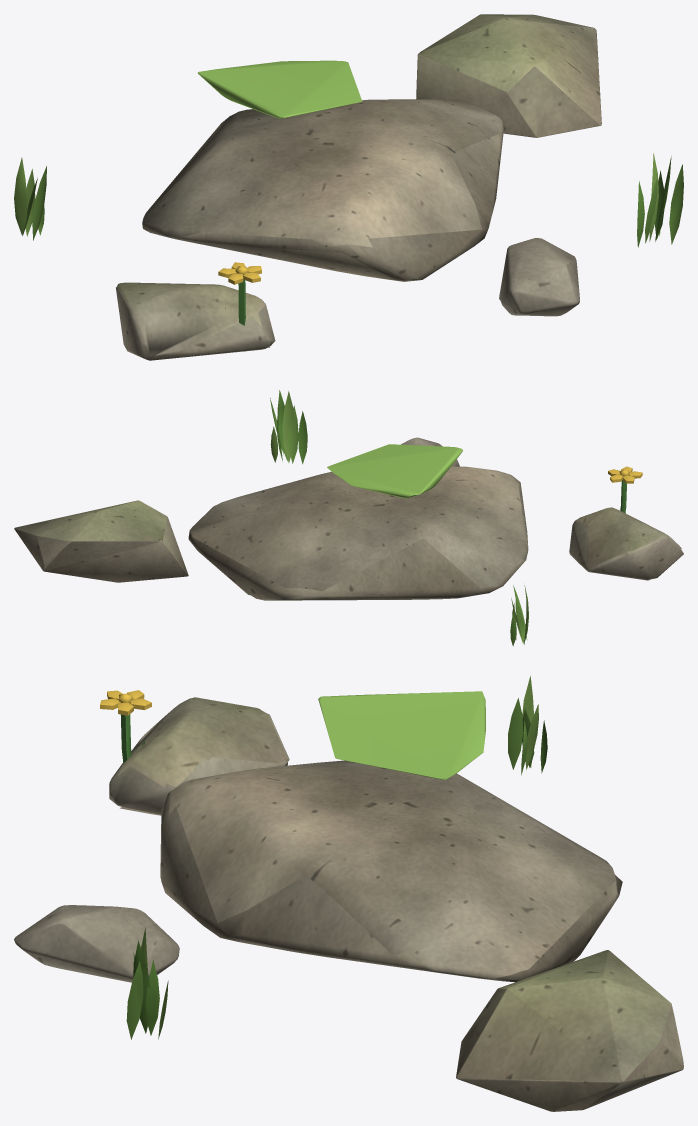
File: rock_flat.gltf
3 views of the same model, one above another, from view 1: azimuth 30°, elevation 25°; view 2: azimuth 150°, elevation 25°; view 3: azimuth 270°, elevation 25° (orthographic). The views are drawn at different scales.
Parts seen in each view (by area): view 1: Stones, Rock; view 2: Stones, Rock; view 3: Stones, Rock.
Boxes of the visible parts, x1=… form: Stones: x1=116, y1=14, x2=601, y2=360; Rock: x1=14, y1=60, x2=683, y2=351; Stones: x1=14, y1=437, x2=683, y2=600; Rock: x1=270, y1=390, x2=642, y2=646; Stones: x1=14, y1=697, x2=683, y2=1111; Rock: x1=100, y1=675, x2=547, y2=1039.
Size of the model in its own units: 2.25 by 0.5069 by 1.71.
8 materials, 1 textured.
